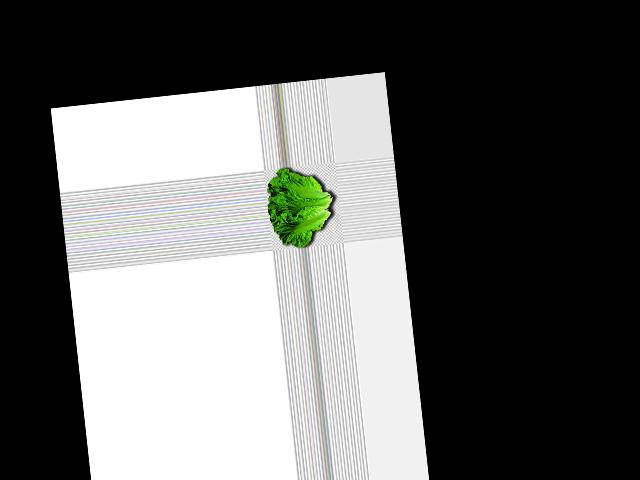lettuce: (264, 165, 339, 252)
